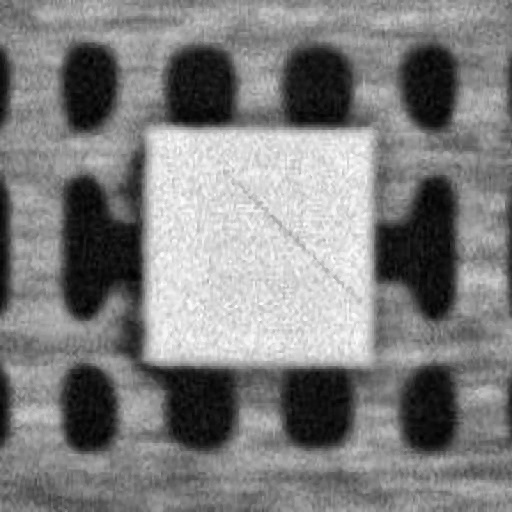DIE_CRACK: (331, 113, 512, 200)
